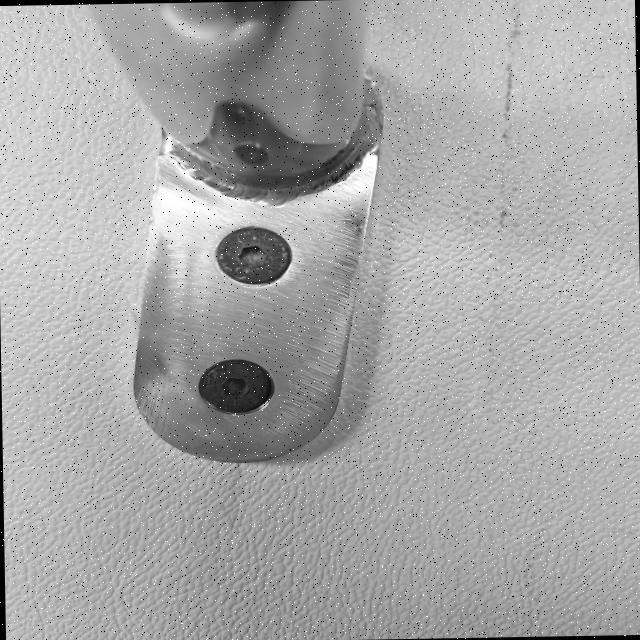Hex Socket Allen: (206, 223, 302, 287), (190, 352, 278, 416)
